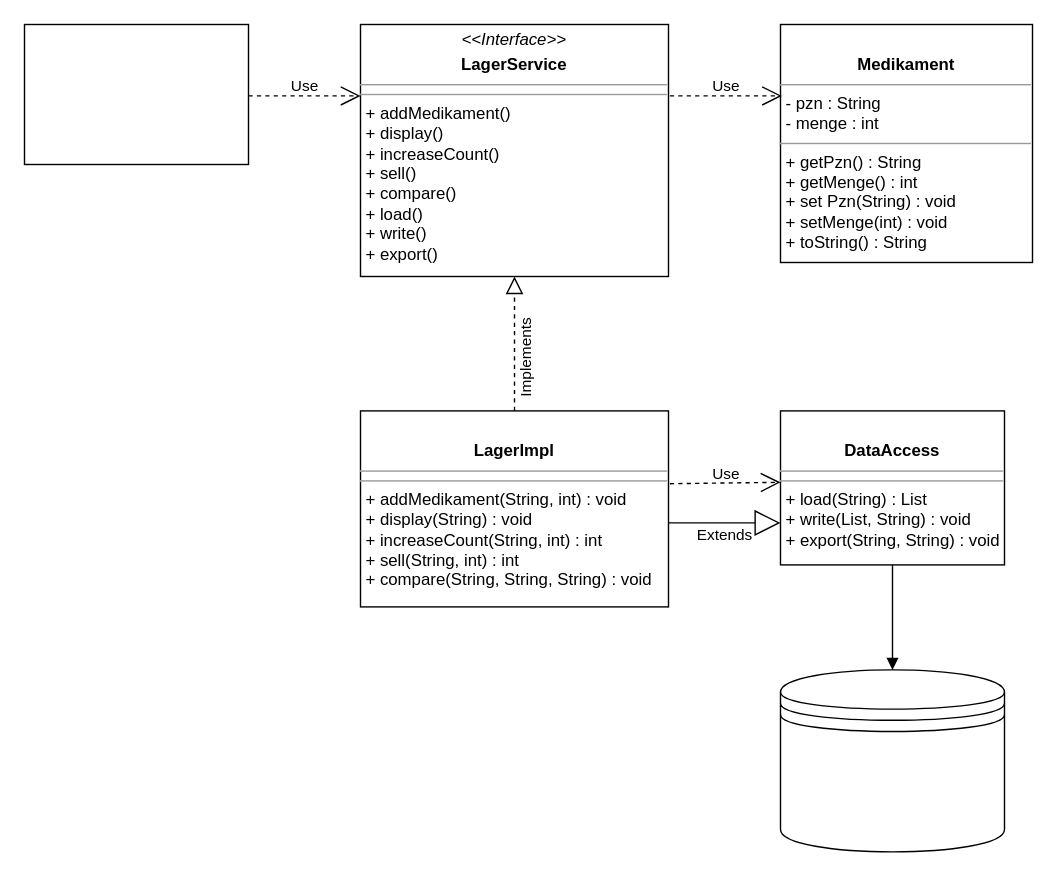
The diagram is 1057 pixels wide and 883 high, and some of its shapes have lost their labels. Here are the shapes that lost their labels. From the top down, the centre of each, then its label:
At (135,93): "LagerApp + path : String {readOnly} + main(String[]) : void".
At (891,760): "BuchBestand.csv IstBestand.csv Abweichungen.csv Absatz.csv Absatz.pdf".
